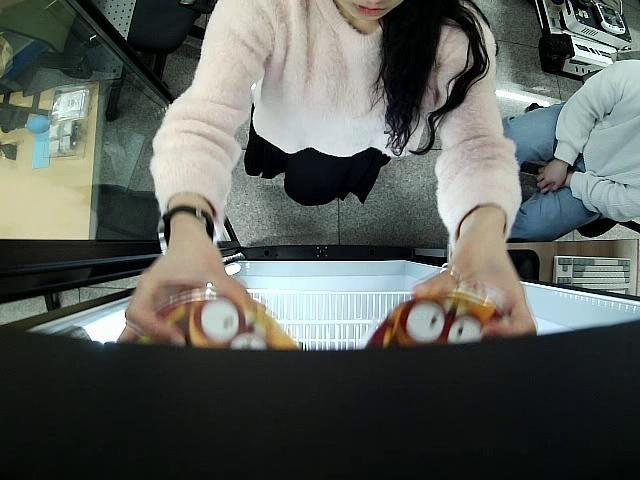05_nuguri_L: (122, 292, 302, 359), (356, 290, 528, 359)
